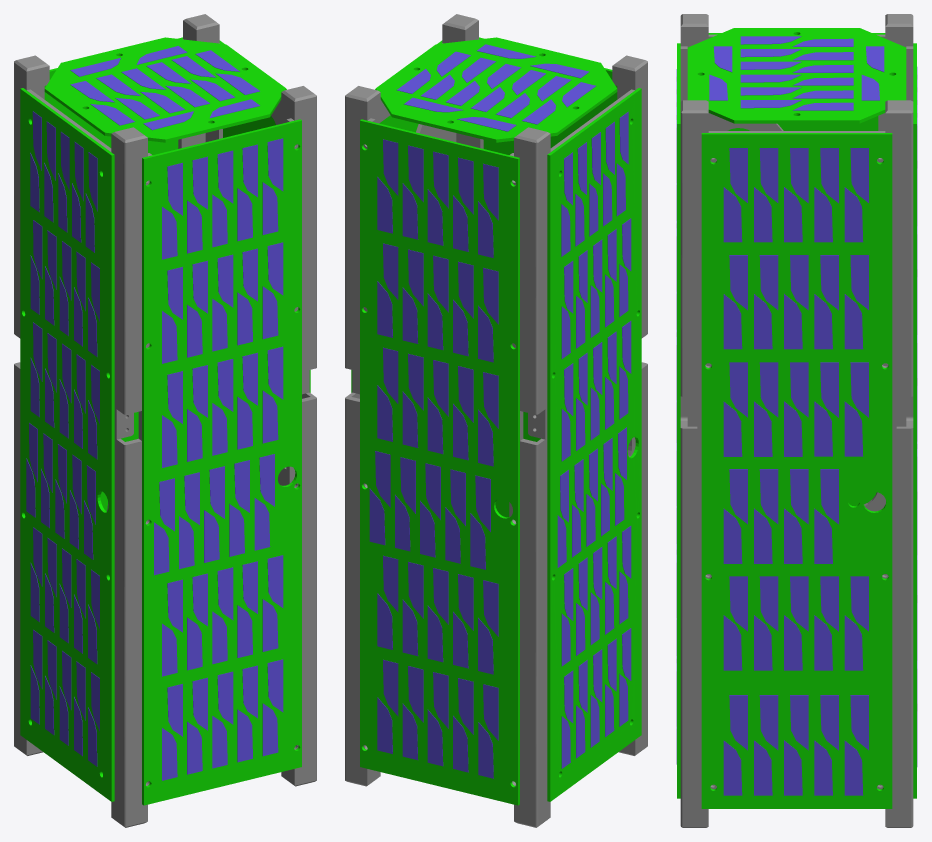
The model's file is LassatV1_stk_model.dae.
The picture shows the model from 3 angles, left to right: view 1: azimuth 30°, elevation 25°; view 2: azimuth 150°, elevation 25°; view 3: azimuth 270°, elevation 25°; orthographic projection. The views are drawn at different scales.
Visible parts, largest first — view 1: LASSAT V1 boards, LASSAT V1 cells, LASSAT V1 rails; view 2: LASSAT V1 boards, LASSAT V1 cells, LASSAT V1 rails; view 3: LASSAT V1 boards, LASSAT V1 cells, LASSAT V1 rails.
Boxes of the visible parts, x1,y1,x2,y2 form: LASSAT V1 boards: (20, 37, 310, 805); LASSAT V1 cells: (26, 46, 283, 780); LASSAT V1 rails: (14, 14, 316, 827); LASSAT V1 boards: (351, 37, 641, 805); LASSAT V1 cells: (369, 44, 631, 778); LASSAT V1 rails: (345, 14, 647, 827); LASSAT V1 boards: (677, 28, 916, 808); LASSAT V1 cells: (676, 36, 917, 795); LASSAT V1 rails: (680, 14, 913, 827).
Bounding box in the file's own units: 0.1038 × 0.1038 × 0.3405.
